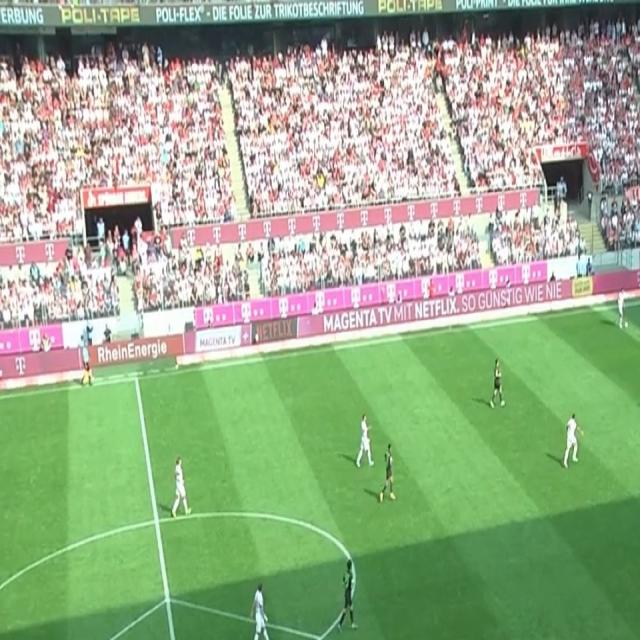ball: (624, 320, 629, 330)
